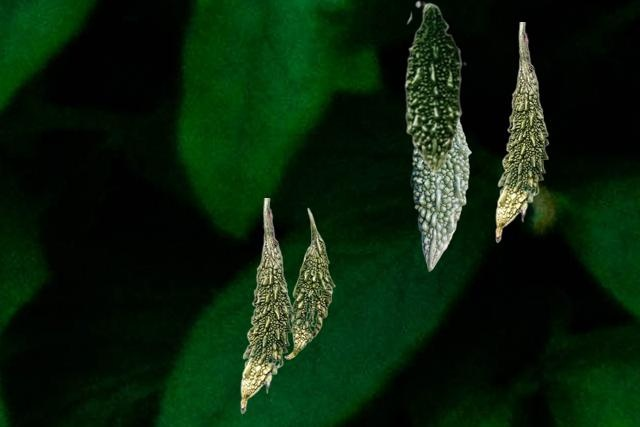ampalaya: (495, 22, 548, 242), (240, 198, 292, 413), (404, 0, 465, 173), (410, 121, 470, 270), (284, 207, 334, 358)
